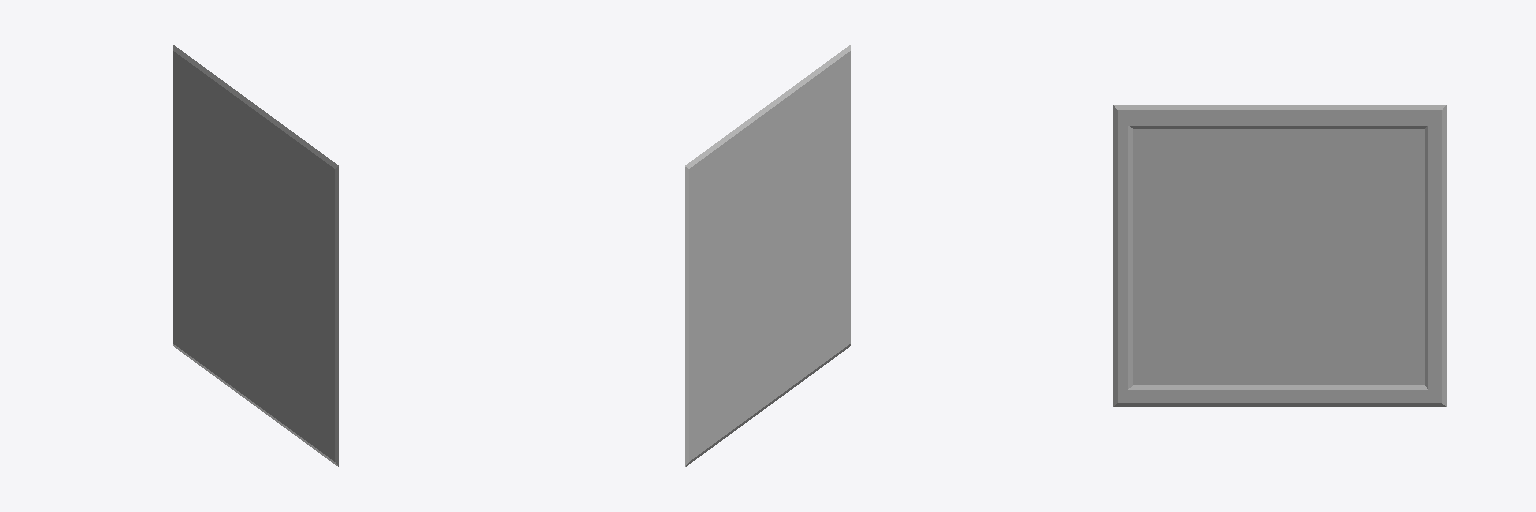
Rendered from picture_frame6.obj.
3 views of the same model, side by side, from view 1: azimuth 30°, elevation 25°; view 2: azimuth 150°, elevation 25°; view 3: azimuth 270°, elevation 25° (orthographic).
Visible parts, largest first — view 1: picture_frame6; view 2: picture_frame6; view 3: picture_frame6.
Boxes of the visible parts, <box> form: picture_frame6: <box>173,45,338,466</box>; picture_frame6: <box>685,45,850,466</box>; picture_frame6: <box>1113,105,1446,406</box>.
Size of the model in its own units: 0.5159 by 41.89 by 41.88.